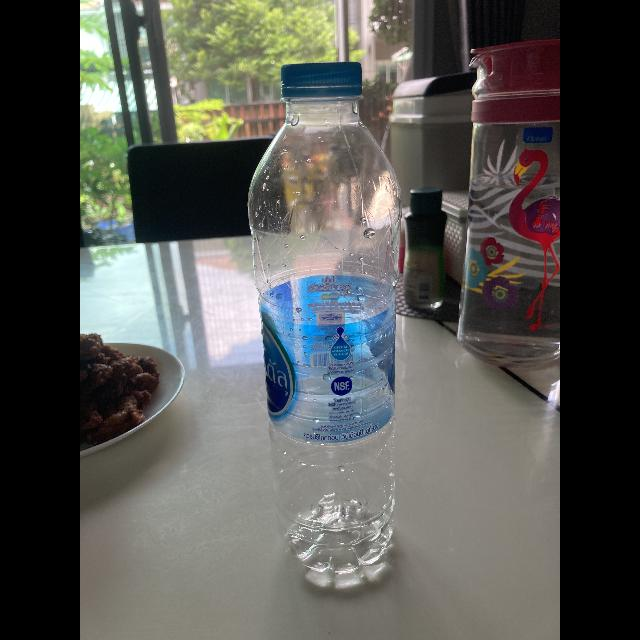plastic_bottle: (240, 60, 404, 588)
plastic_bottle_cap: (280, 61, 364, 99)
